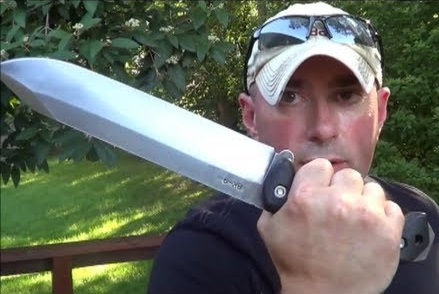knife: (1, 52, 400, 263)
